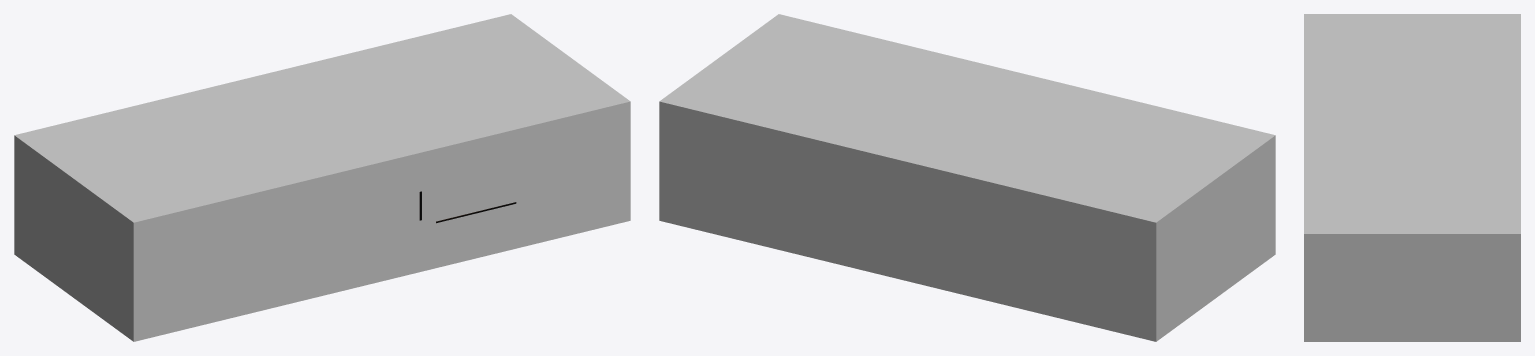
File: outpost.obj
3 views of the same model, side by side, from view 1: azimuth 30°, elevation 25°; view 2: azimuth 150°, elevation 25°; view 3: azimuth 270°, elevation 25° (orthographic). The views are drawn at different scales.
Parts seen in each view (by area): view 1: Cube.083_Cube.200, Cube.129_Cube.211, Cube.002, Cube.001, Cube.092_Cube.209; view 2: Cube.083_Cube.200, Cube.005, Cube.003, Cube.004; view 3: Cube.083_Cube.200, Cube.092_Cube.209.
Part boxes in pixels (x1,y1,x2,y2): Cube.083_Cube.200: (14,14,630,341); Cube.129_Cube.211: (358,174,406,287); Cube.002: (203,208,267,279); Cube.001: (496,136,560,206); Cube.092_Cube.209: (515,35,601,85); Cube.083_Cube.200: (659,14,1275,341); Cube.005: (1022,208,1086,279); Cube.003: (729,136,793,208); Cube.004: (875,172,939,243); Cube.083_Cube.200: (1304,14,1520,341); Cube.092_Cube.209: (1356,222,1468,233).
Size of the model in its own units: 9.25 by 2.12 by 3.86.
